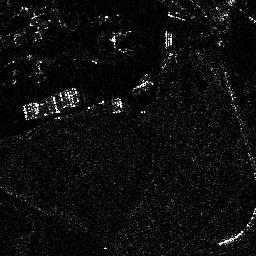ship: (128, 80, 154, 95)
